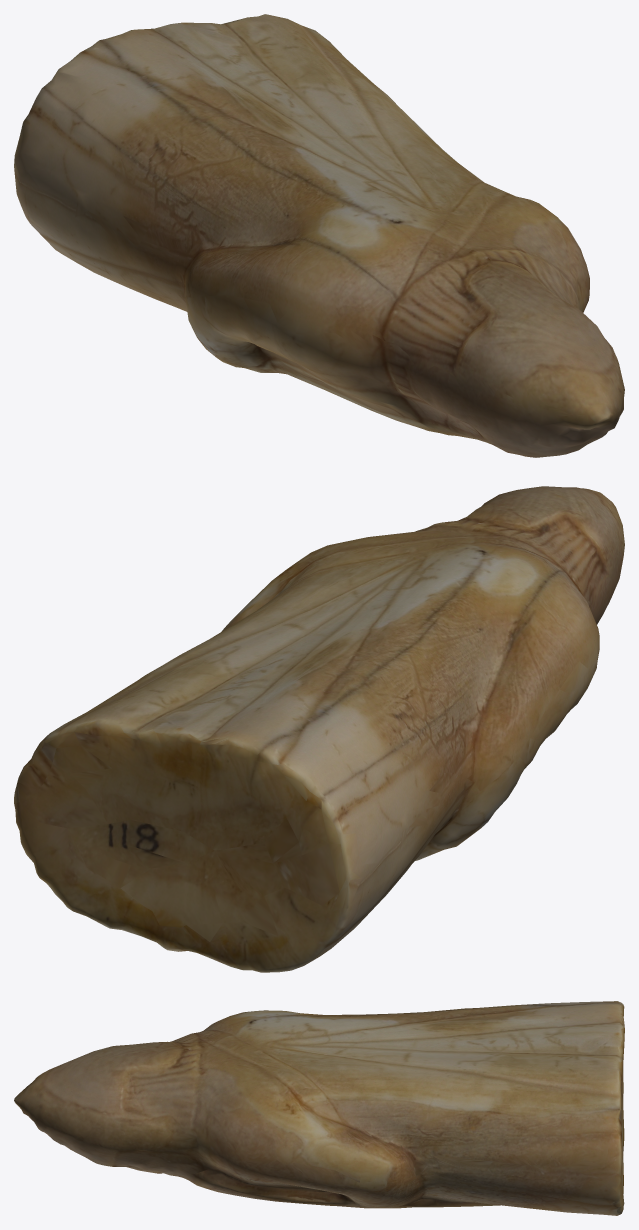
File: pawn.glb
3 renders of one model, top to bottom at view 1: azimuth 30°, elevation 25°; view 2: azimuth 150°, elevation 25°; view 3: azimuth 270°, elevation 25°, orthographic. The views are drawn at different scales.
Parts seen in each view (by area): view 1: beserkerTwo; view 2: beserkerTwo; view 3: beserkerTwo.
Boxes of the visible parts, x1,y1,x2,y2 form: beserkerTwo: (14, 14, 624, 457); beserkerTwo: (14, 486, 624, 972); beserkerTwo: (14, 1001, 624, 1215).
Bounding box in the file's own units: 1.55 × 1.01 × 3.42.
1 material, 1 textured.
